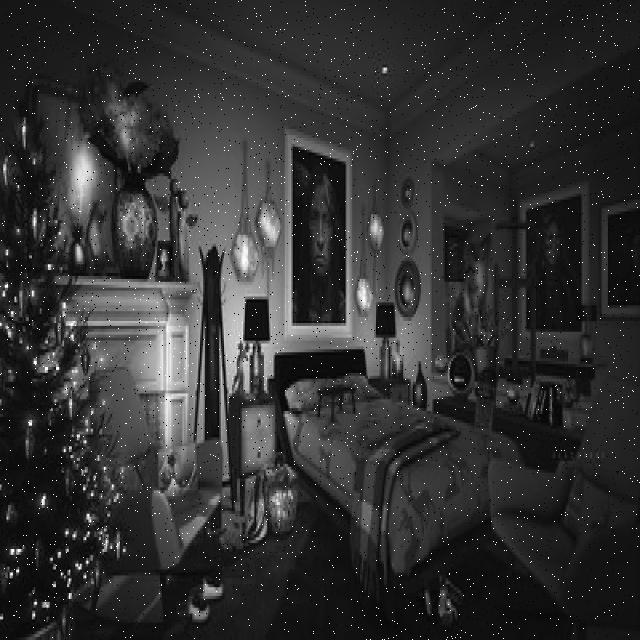bed: (276, 338, 516, 568)
